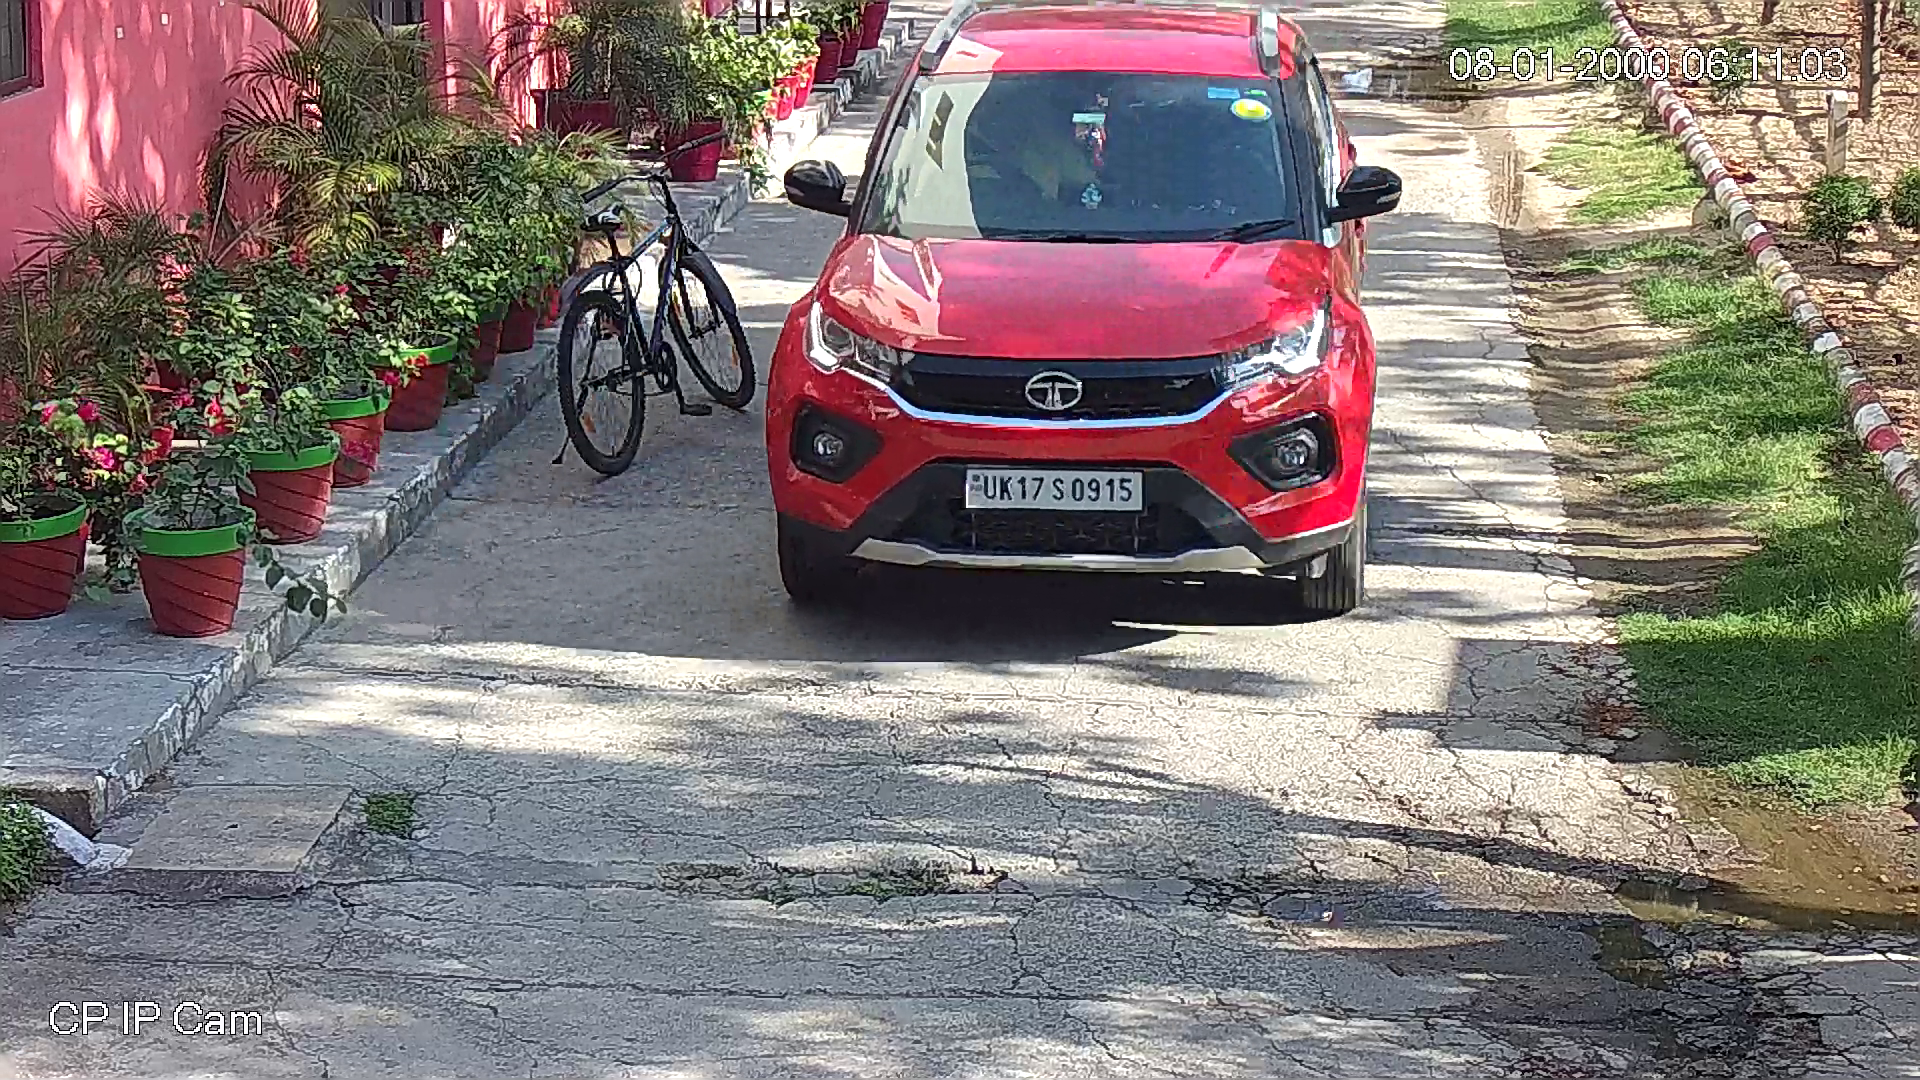plate: (958, 465, 1144, 514)
